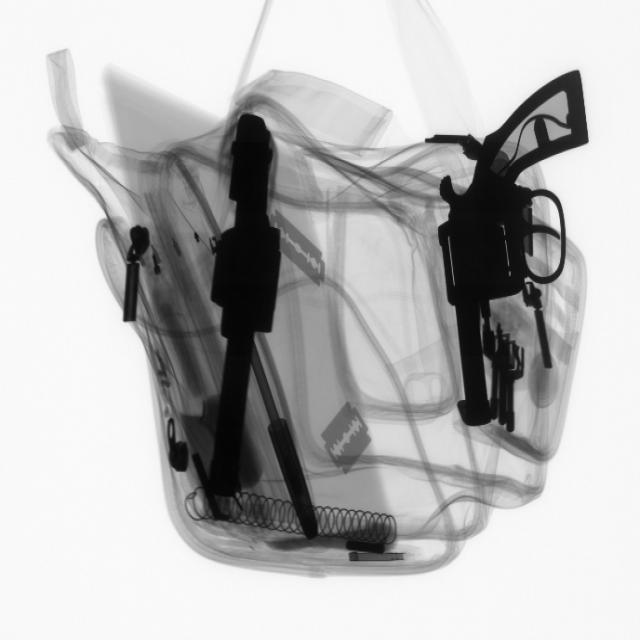BLADE: (272, 206, 331, 291), (317, 397, 374, 479)
GUN: (431, 61, 589, 450), (199, 105, 293, 518)
